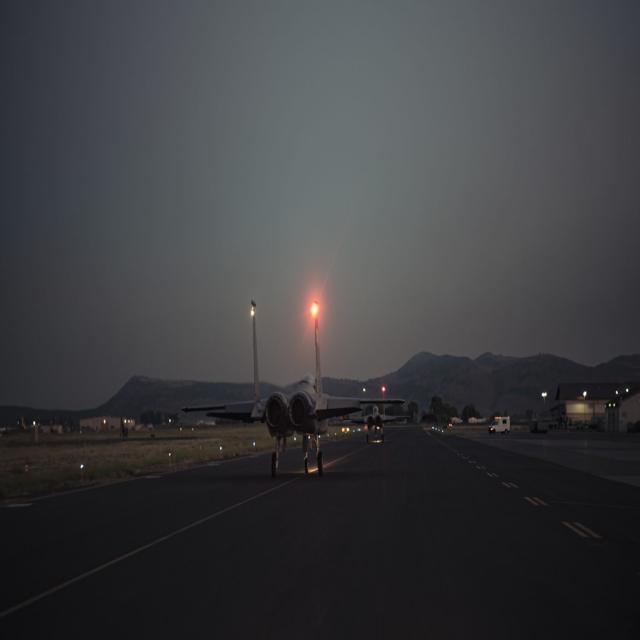MIL_Plane: (181, 299, 406, 476), (338, 387, 411, 443)
